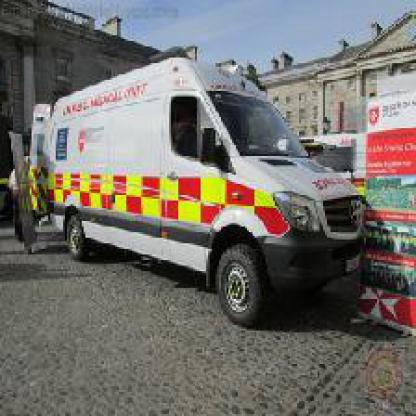emergency: (24, 61, 372, 331)
